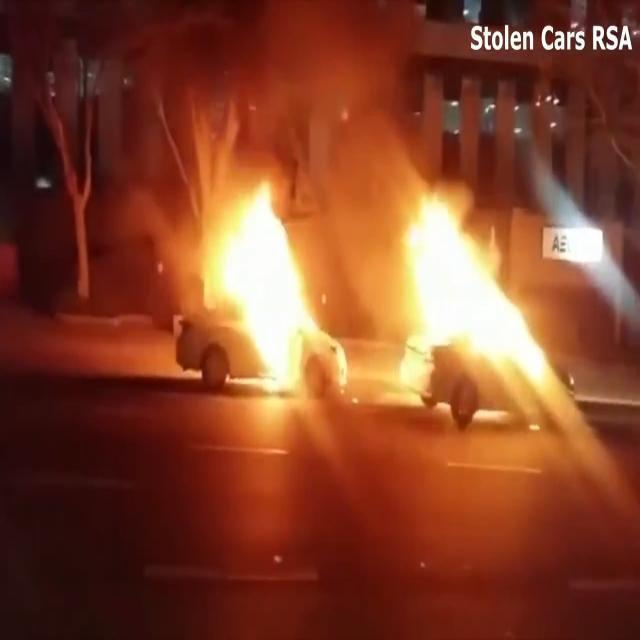fire: (396, 186, 553, 360), (216, 174, 301, 380)
